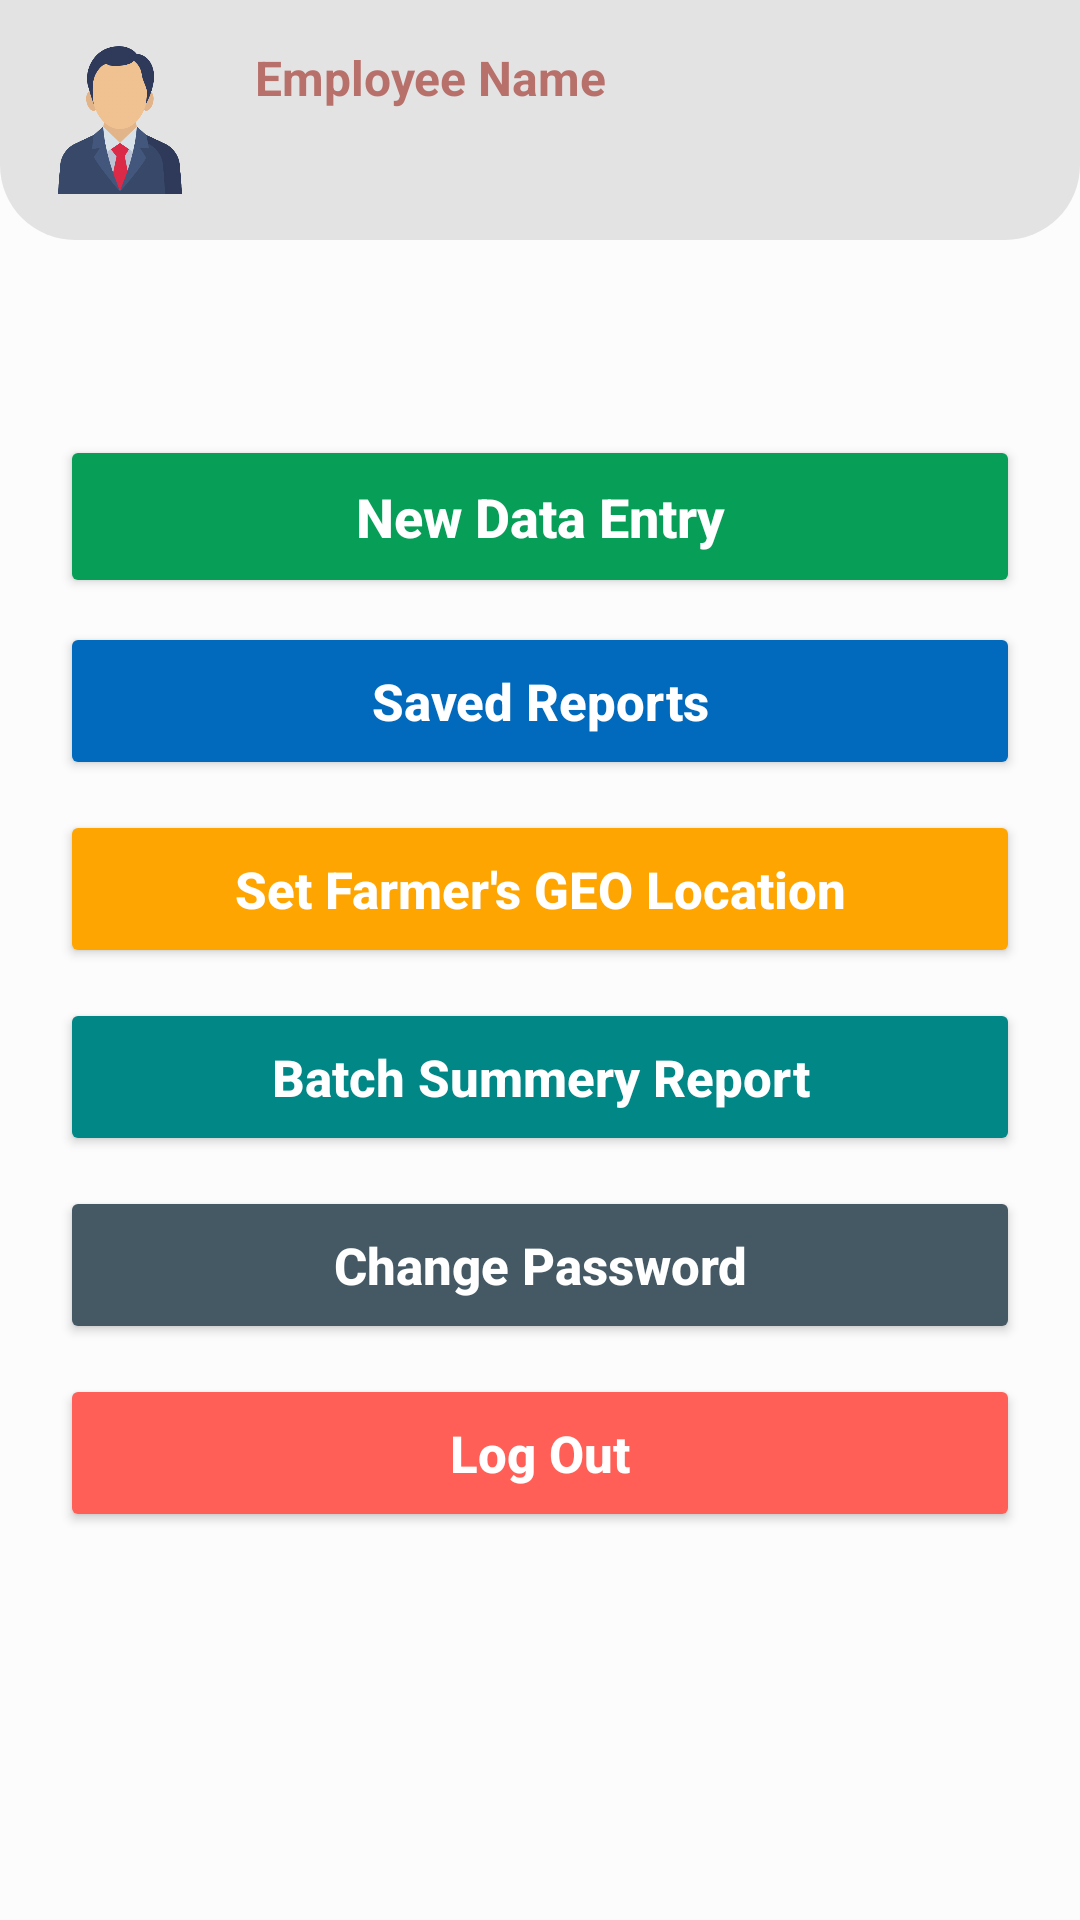

Where icons sit on this 1080px x 1920px app screen, as (x1, y1, x2, y2):
manager: (58, 46, 182, 194)
